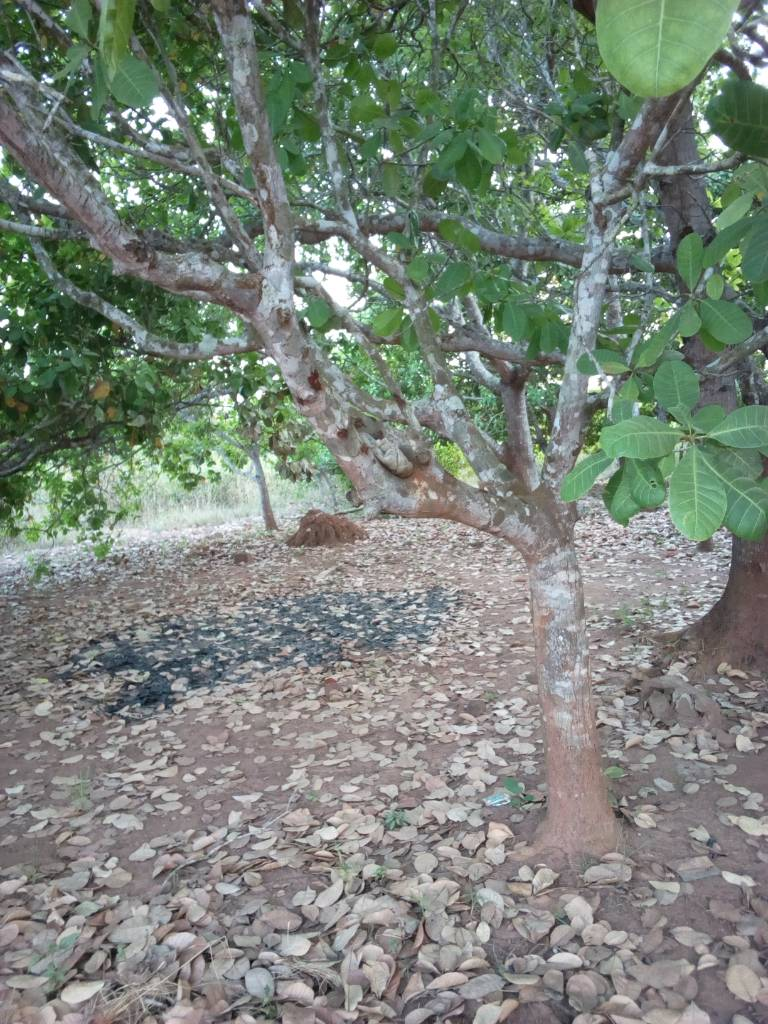Termites: (538, 694, 611, 861), (300, 508, 347, 547)
